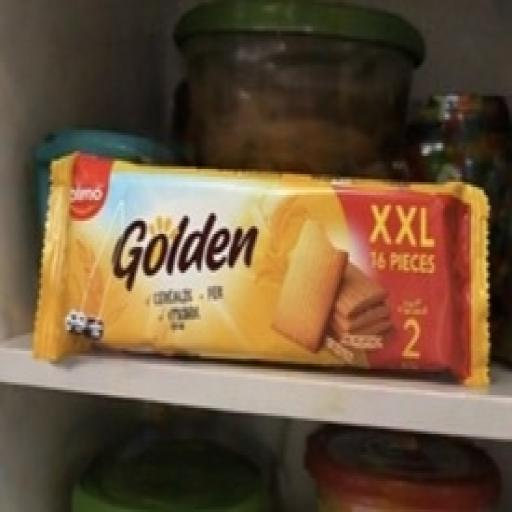golden: (25, 81, 512, 440)
